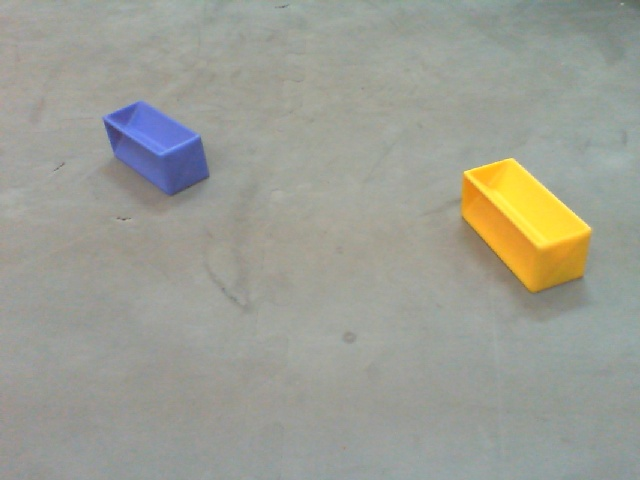BlueSample: (100, 99, 213, 198)
YellowSample: (455, 155, 596, 295)
